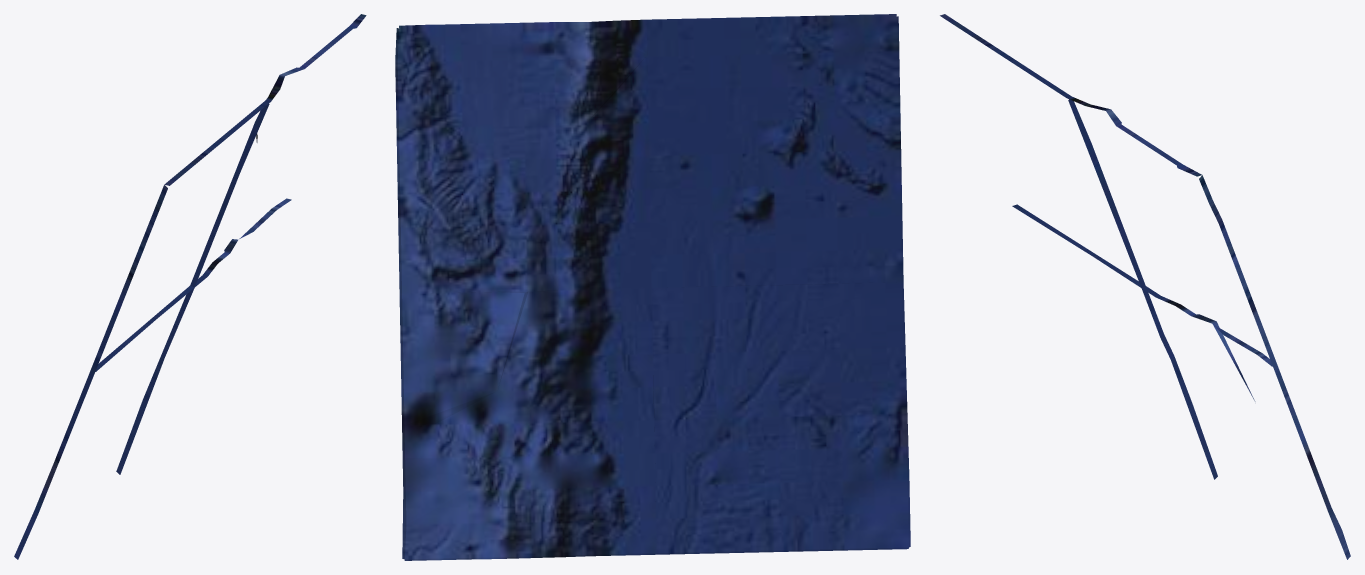
3 renders of one model, left to right at view 1: azimuth 30°, elevation 25°; view 2: azimuth 150°, elevation 25°; view 3: azimuth 270°, elevation 25°, orthographic. The views are drawn at different scales.
Bounding box in the file's own units: 153895 × 148989 × 130116.
Materials: 1 (1 with a texture image).
